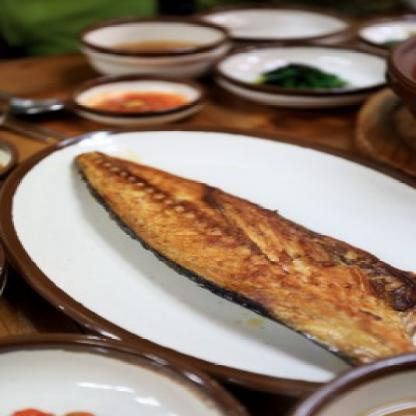Peixe: (60, 137, 416, 374)
